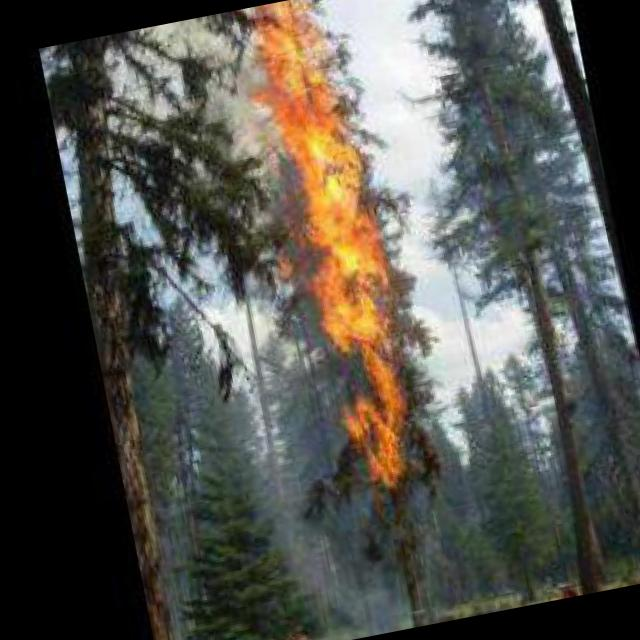fire: (234, 0, 437, 502)
